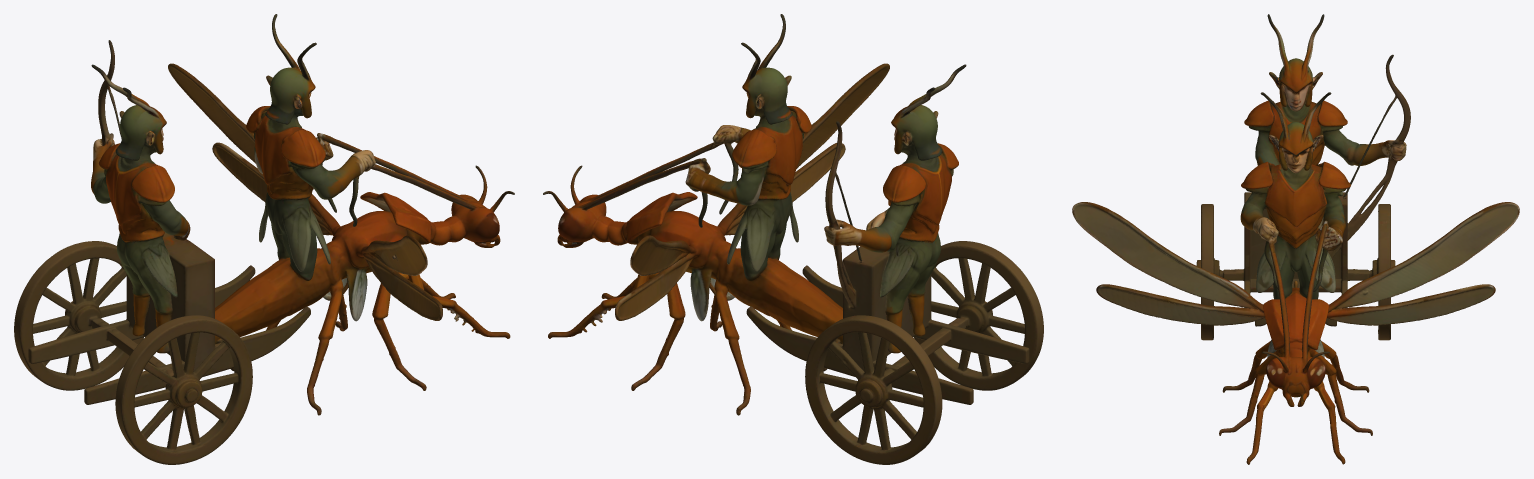
3 renders of one model, left to right at view 1: azimuth 30°, elevation 25°; view 2: azimuth 150°, elevation 25°; view 3: azimuth 270°, elevation 25°, orthographic. The views are drawn at different scales.
Parts seen in each view (by area): view 1: tripo_node_44e12143-8f87-4756-82e8-17cbfde63351; view 2: tripo_node_44e12143-8f87-4756-82e8-17cbfde63351; view 3: tripo_node_44e12143-8f87-4756-82e8-17cbfde63351.
Part boxes in pixels (x1,y1,x2,y2): tripo_node_44e12143-8f87-4756-82e8-17cbfde63351: [14, 14, 514, 464]; tripo_node_44e12143-8f87-4756-82e8-17cbfde63351: [543, 14, 1043, 464]; tripo_node_44e12143-8f87-4756-82e8-17cbfde63351: [1072, 14, 1519, 464].
Bounding box in the file's own units: 0.9885 × 0.7654 × 1.
Materials: 1 (1 with a texture image).
